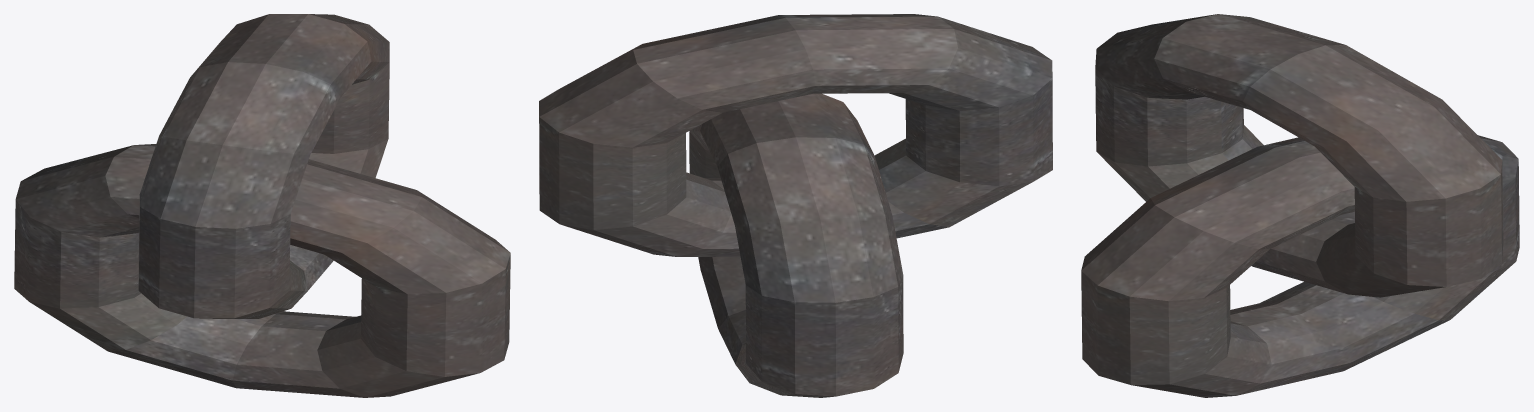
Rendered from SM_ChainLink_01_Splines_70.fbx.
3 views of the same model, side by side, from view 1: azimuth 30°, elevation 25°; view 2: azimuth 150°, elevation 25°; view 3: azimuth 270°, elevation 25° (orthographic). The views are drawn at different scales.
Parts seen in each view (by area): view 1: SM_ChainLink_01_Splines_70; view 2: SM_ChainLink_01_Splines_70; view 3: SM_ChainLink_01_Splines_70.
Boxes of the visible parts, left/top/right/bottom form: SM_ChainLink_01_Splines_70: left=14, top=14, right=510, bottom=397; SM_ChainLink_01_Splines_70: left=539, top=14, right=1052, bottom=397; SM_ChainLink_01_Splines_70: left=1081, top=14, right=1519, bottom=397.
Bounding box in the file's own units: 3.18 × 3.39 × 2.62.
